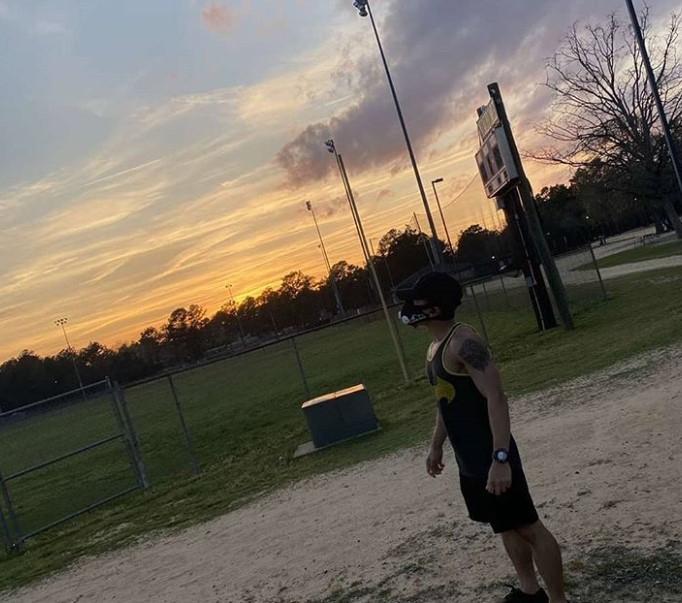face_with_mask: (391, 270, 467, 333)
